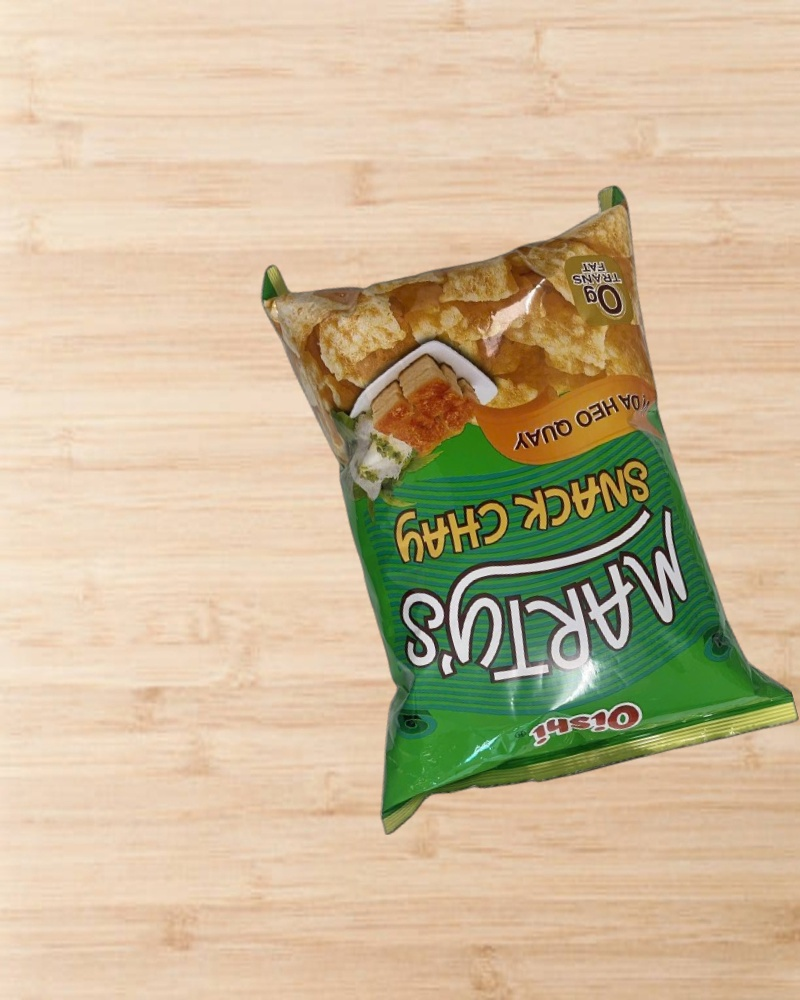Snack chay: (257, 166, 800, 830)
